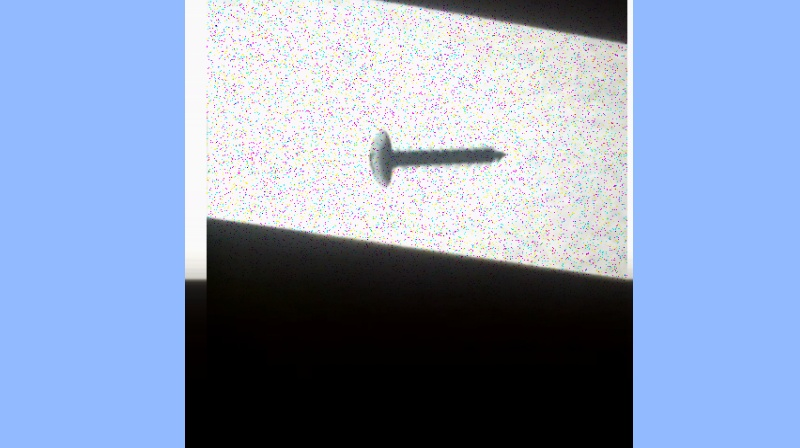S003: (361, 126, 508, 192)
